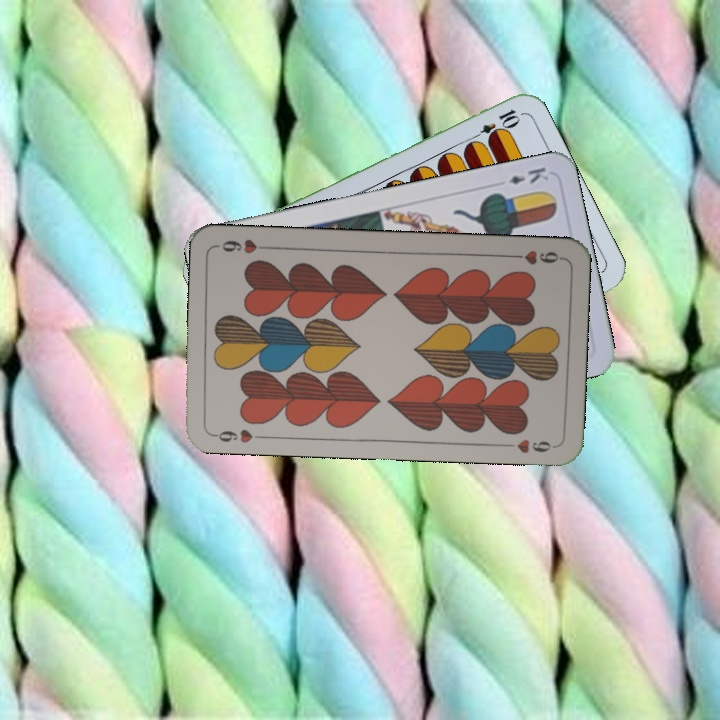E10: (466, 105, 522, 145)
EK: (505, 163, 552, 187)
H9: (505, 246, 564, 267), (208, 425, 267, 446)
